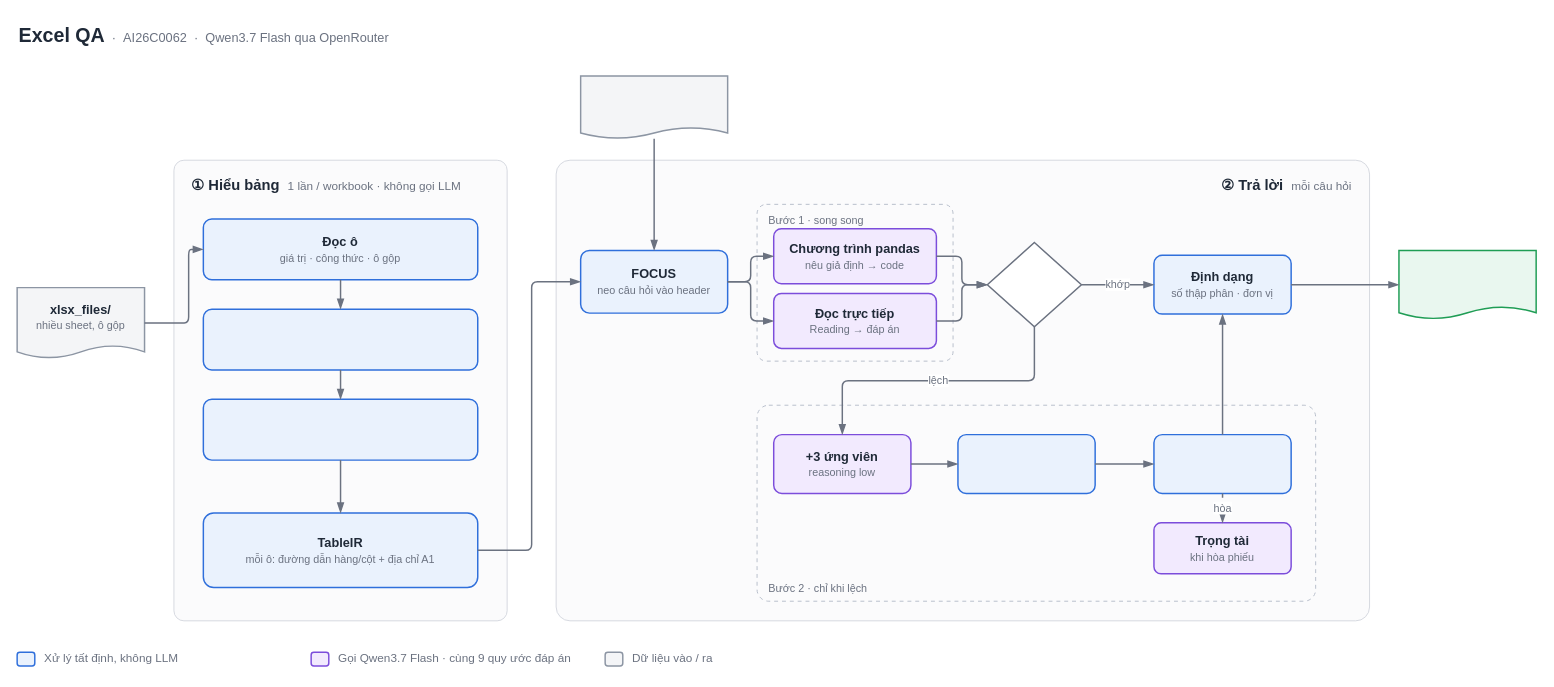
Some shapes in this 1554 by 687 pixel diagram are drawn without their labels. The shapes that lost their labels are listed below. From the top down, each one's centre as x and y in pixels, then its label:
the point at 653,107: queries.json câu hỏi
the point at 1034,284: Khớp?
the point at 1467,284: submission.csv id, answer
the point at 340,339: Tách bảng nhiều bảng · gắn lại cột nhãn
the point at 340,429: Cây header & cây hàng nhóm cha · dòng tổng
the point at 1026,463: Lọc đúng kiểu · đúng mẫu
the point at 1222,463: Bỏ phiếu trên dạng chuẩn hóa
